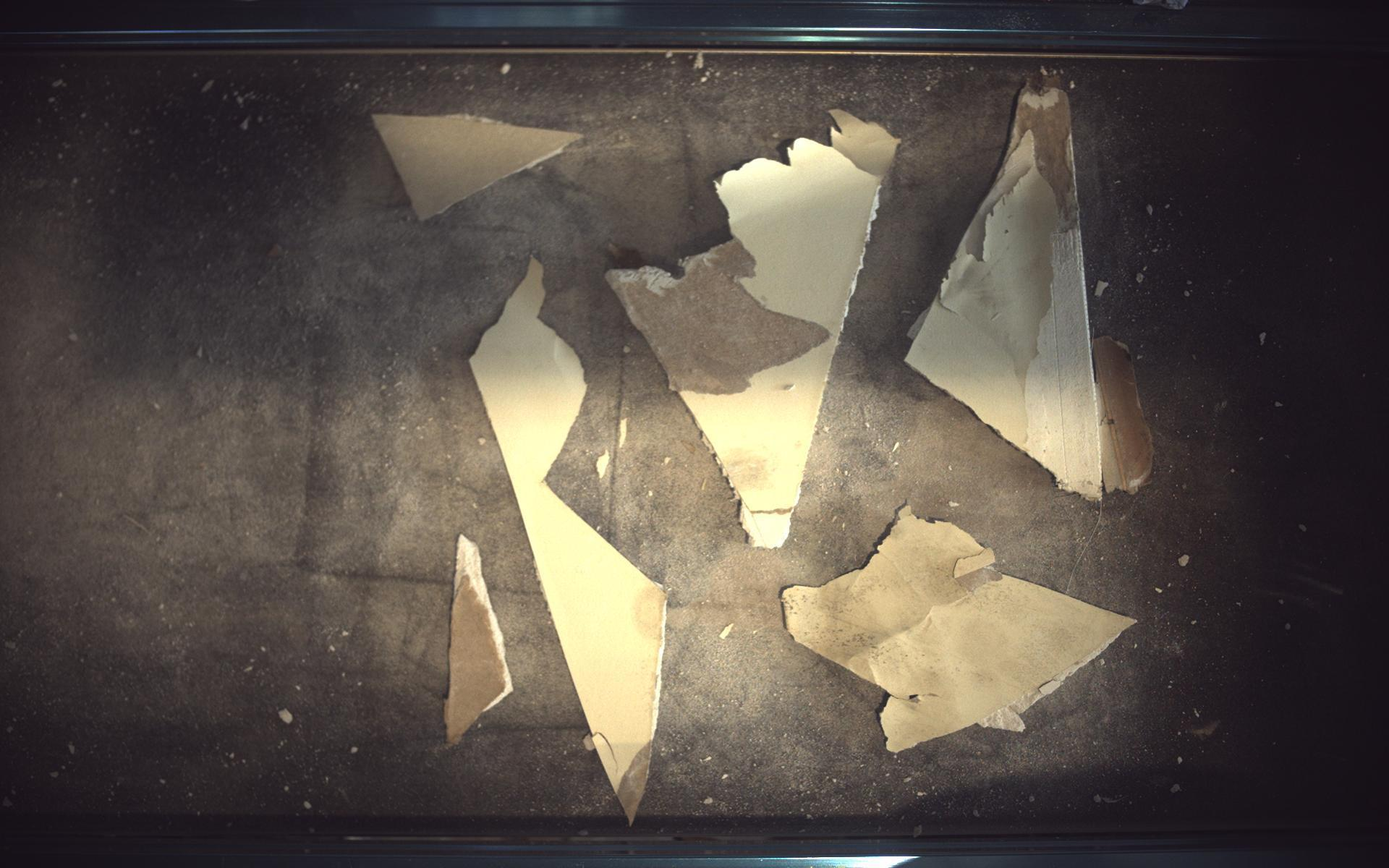gypsum_board: (606, 109, 900, 548), (470, 258, 668, 825), (907, 74, 1156, 499), (783, 506, 1138, 753), (374, 114, 582, 219), (444, 536, 513, 746)
